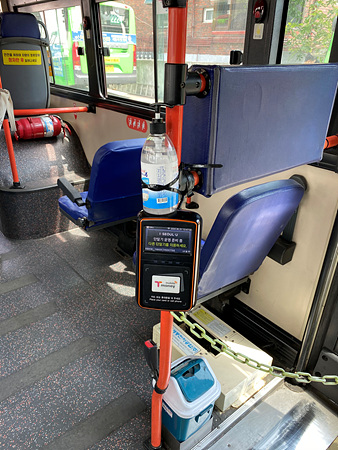terminal: (136, 209, 196, 312)
